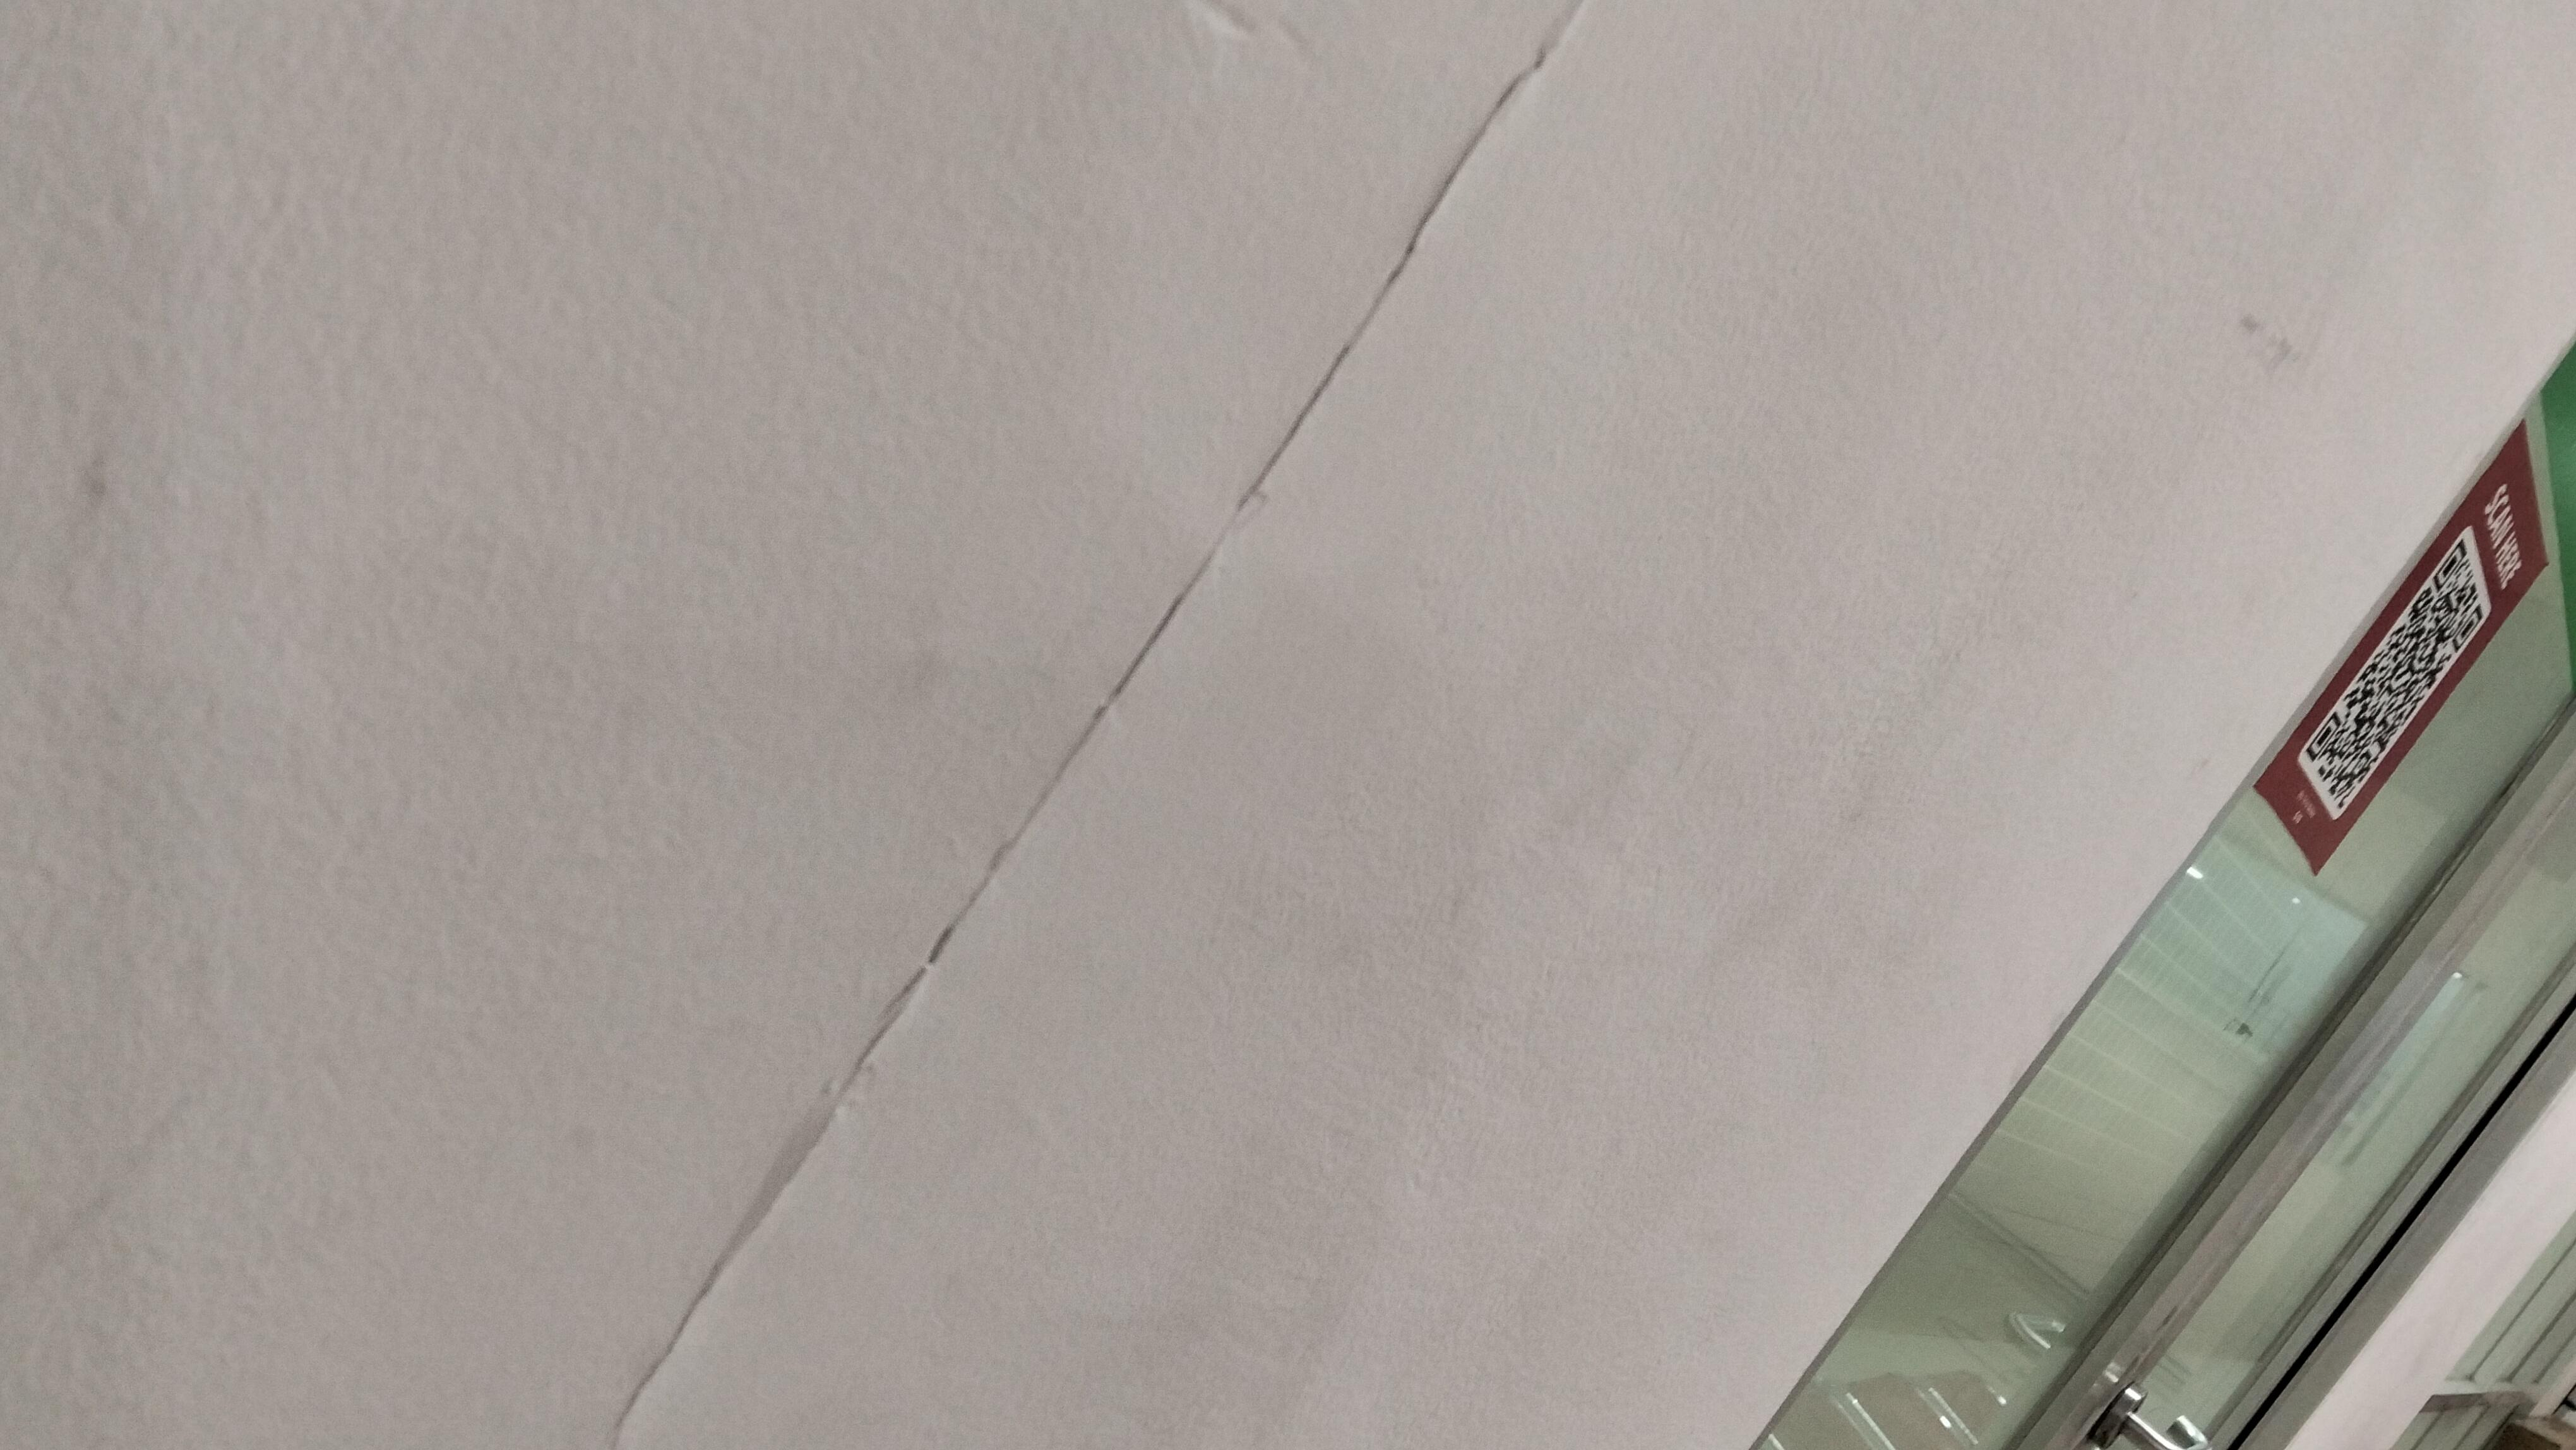Crack: (1074, 48, 1622, 758), (724, 786, 1074, 1257)
